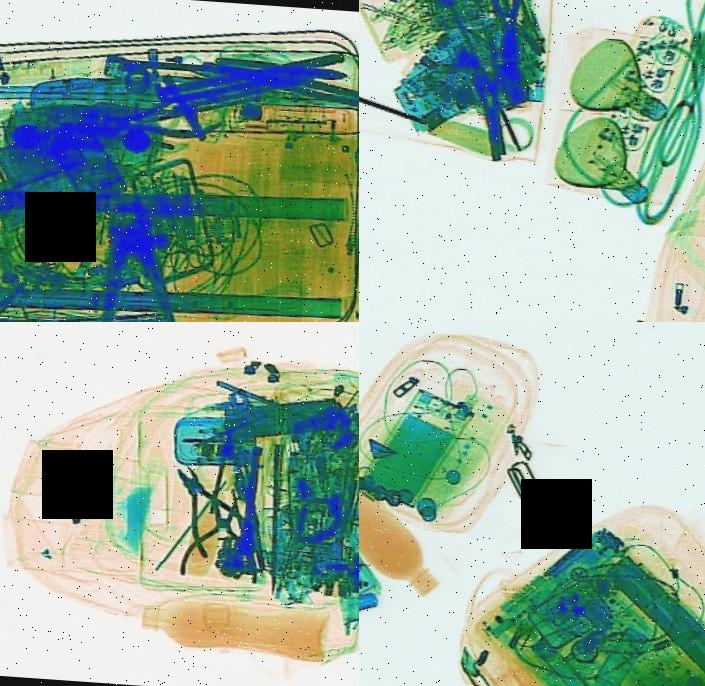Pliers: (71, 199, 190, 322), (146, 451, 260, 562), (84, 80, 226, 152), (208, 49, 359, 104), (177, 485, 262, 582), (471, 0, 537, 66)
